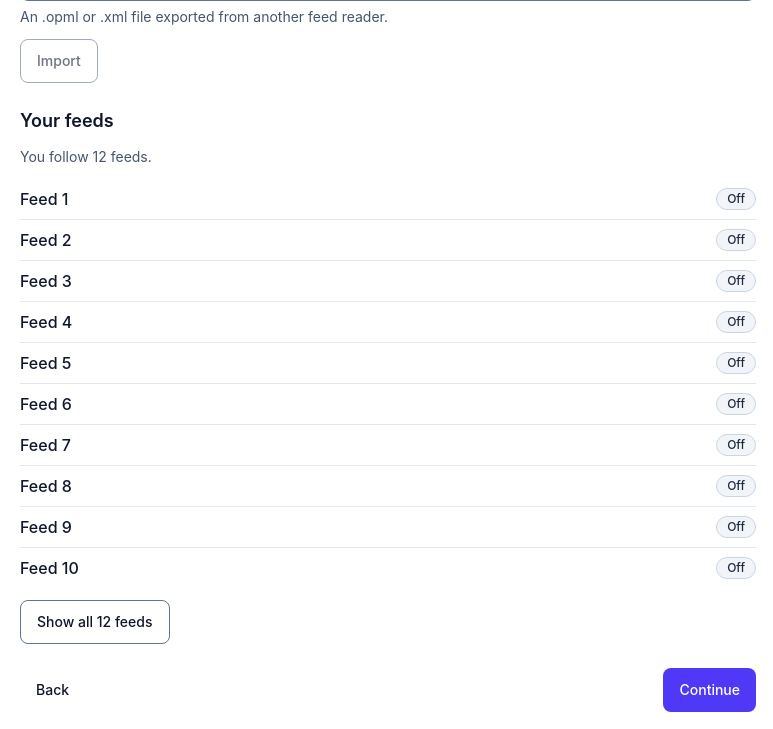
Test case: feeds (spec 09 §4 step 2) › lists the first ten feeds and the rest on request
(page scrolled)
Expected: the text "You follow 12 feeds." is shown, x1=20 y1=148 x2=152 y2=165
Click the button "Show all 12 feeds" at {"x": 95, "y": 622}, box x1=20 y1=600 x2=170 y2=644
(page scrolled)
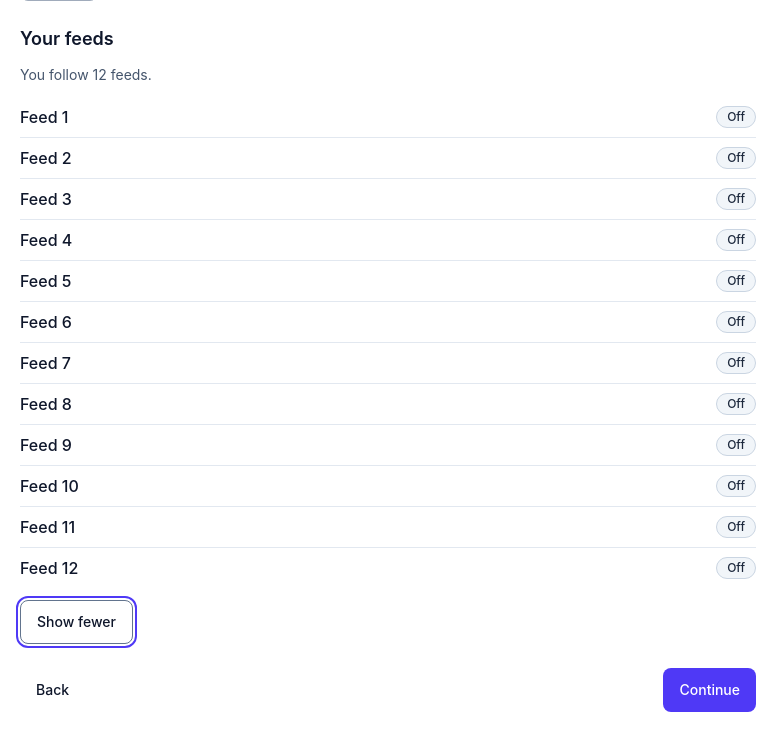
Expected: the button "Continue" is enabled, x1=664 y1=668 x2=756 y2=712
Result: the button "Show fewer" is expanded at x1=20 y1=600 x2=133 y2=644
